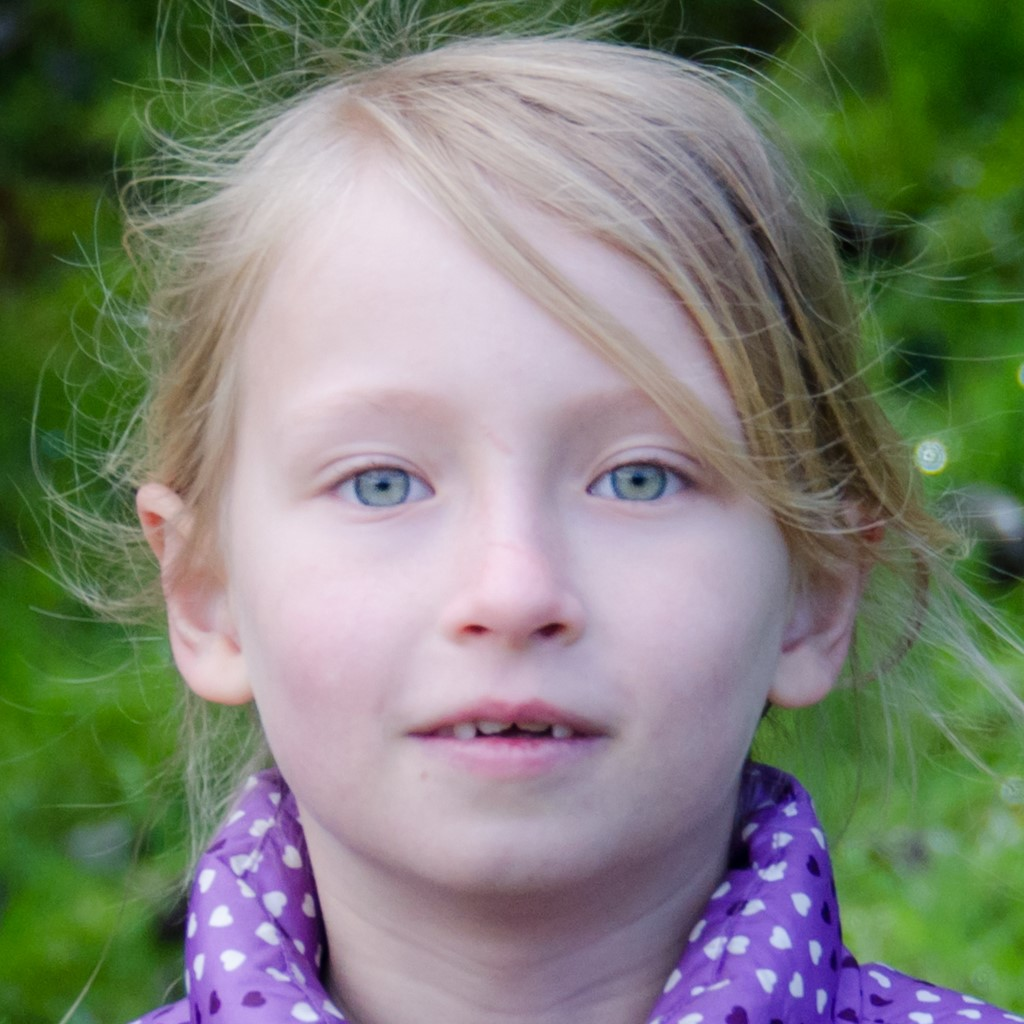sin_mascara: (179, 76, 835, 885)
